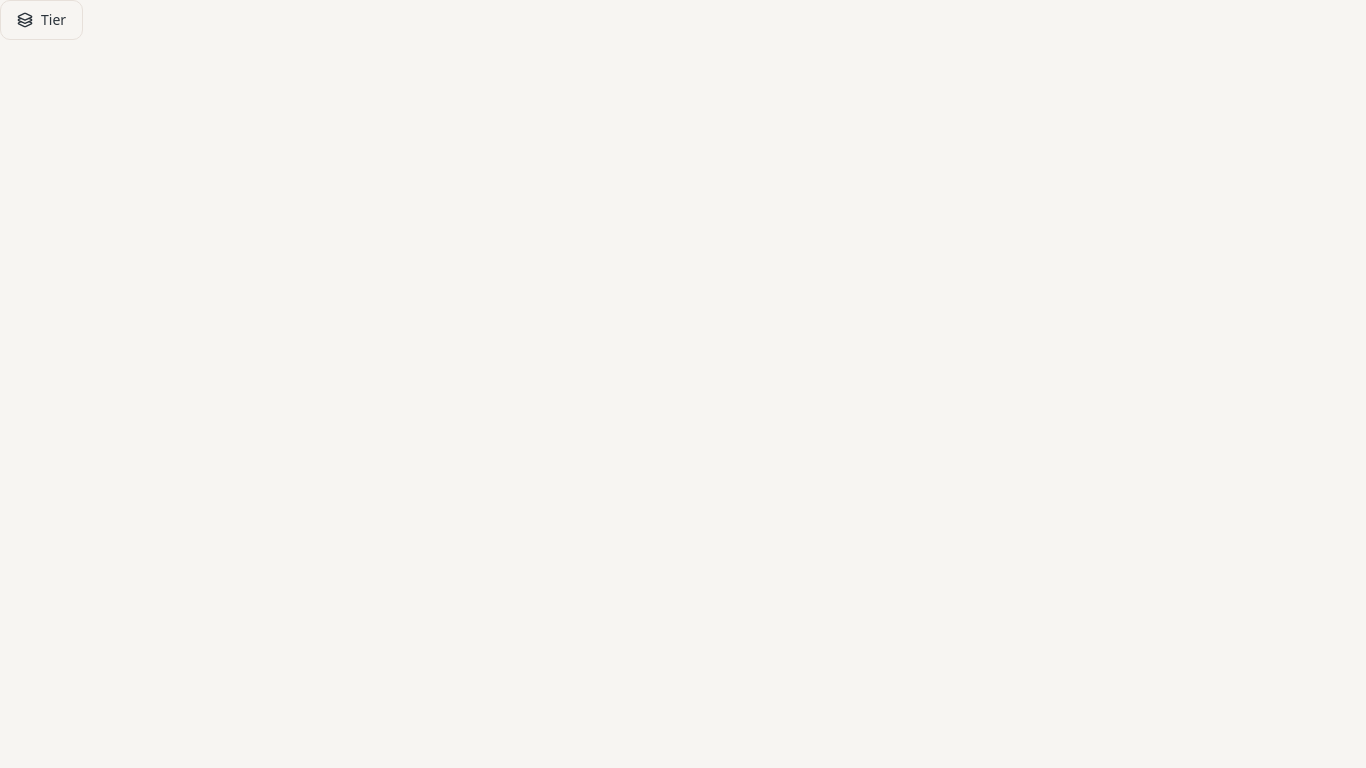
keeps the form open and reports duplicate names without opening another tier
Click the button "Tier" at {"x": 42, "y": 20}, box [0, 0, 83, 40]
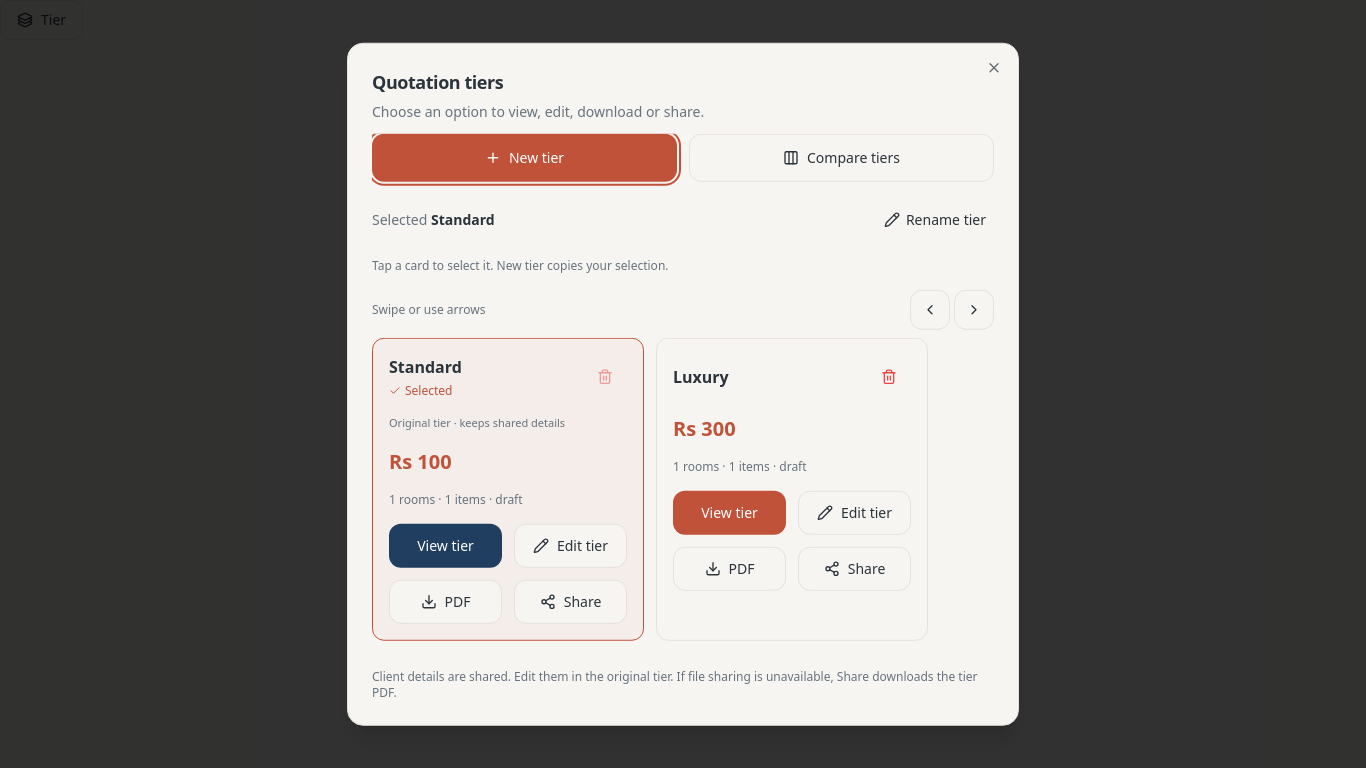
Click the button with aria-label "Create another tier" at {"x": 524, "y": 158}, box [372, 134, 677, 182]
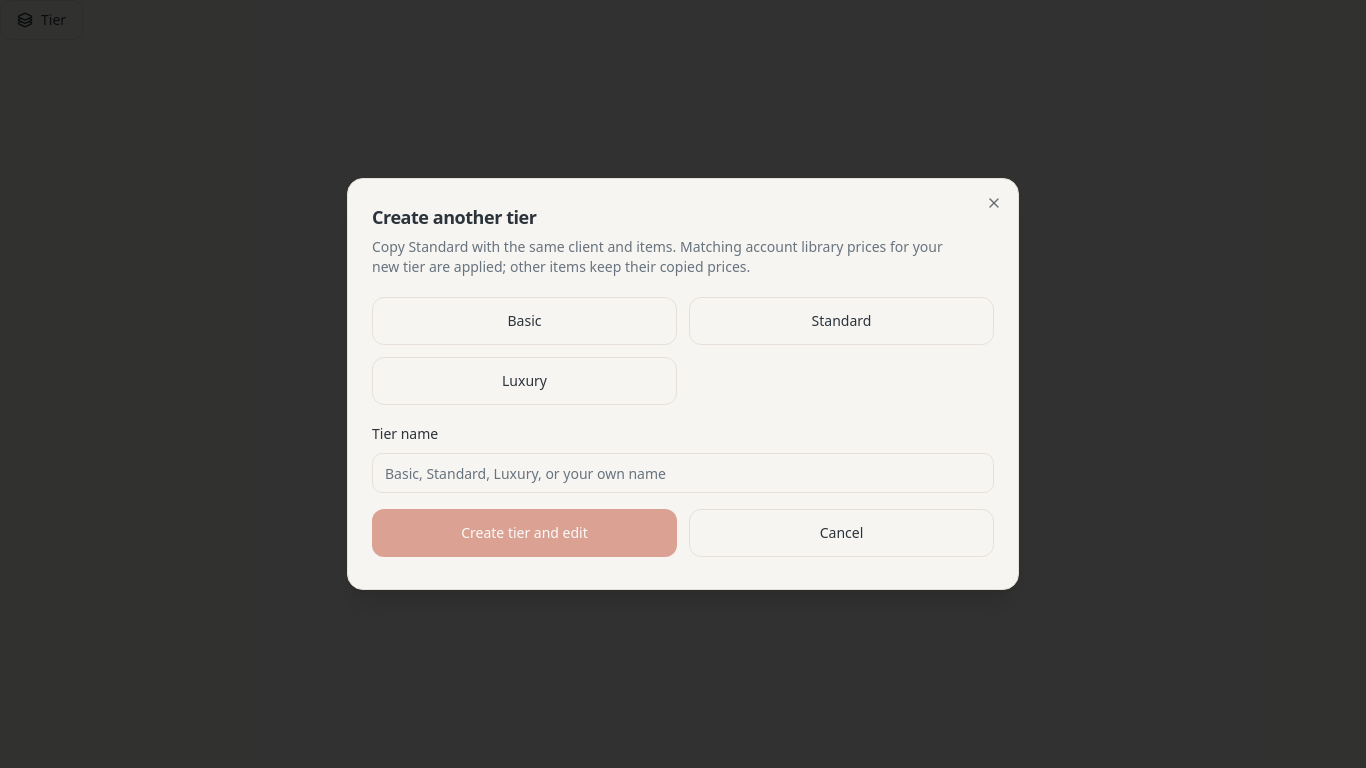
Type "Luxury" into the field labelled "Tier name" at {"x": 683, "y": 473}, box [372, 453, 994, 493]
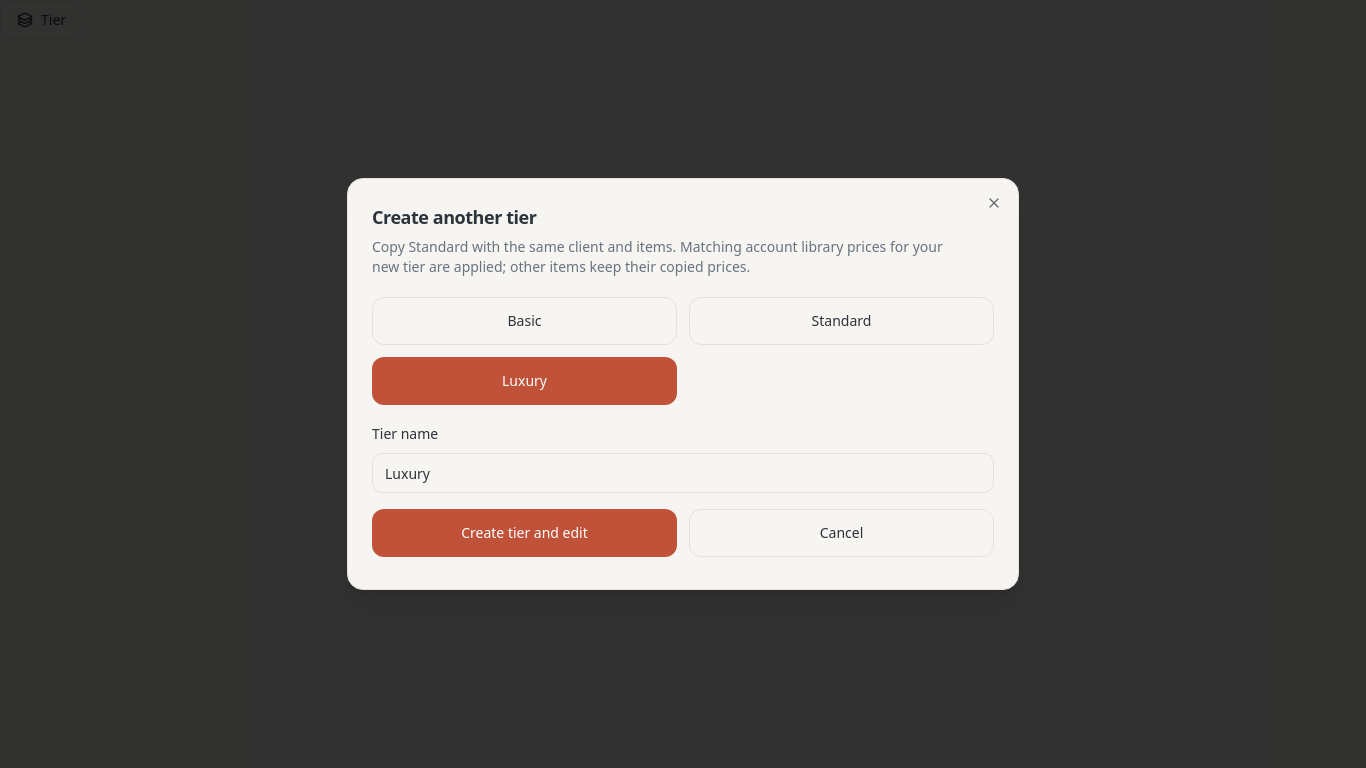
Click the button "Create tier and edit" at {"x": 524, "y": 533}, box [372, 509, 677, 557]
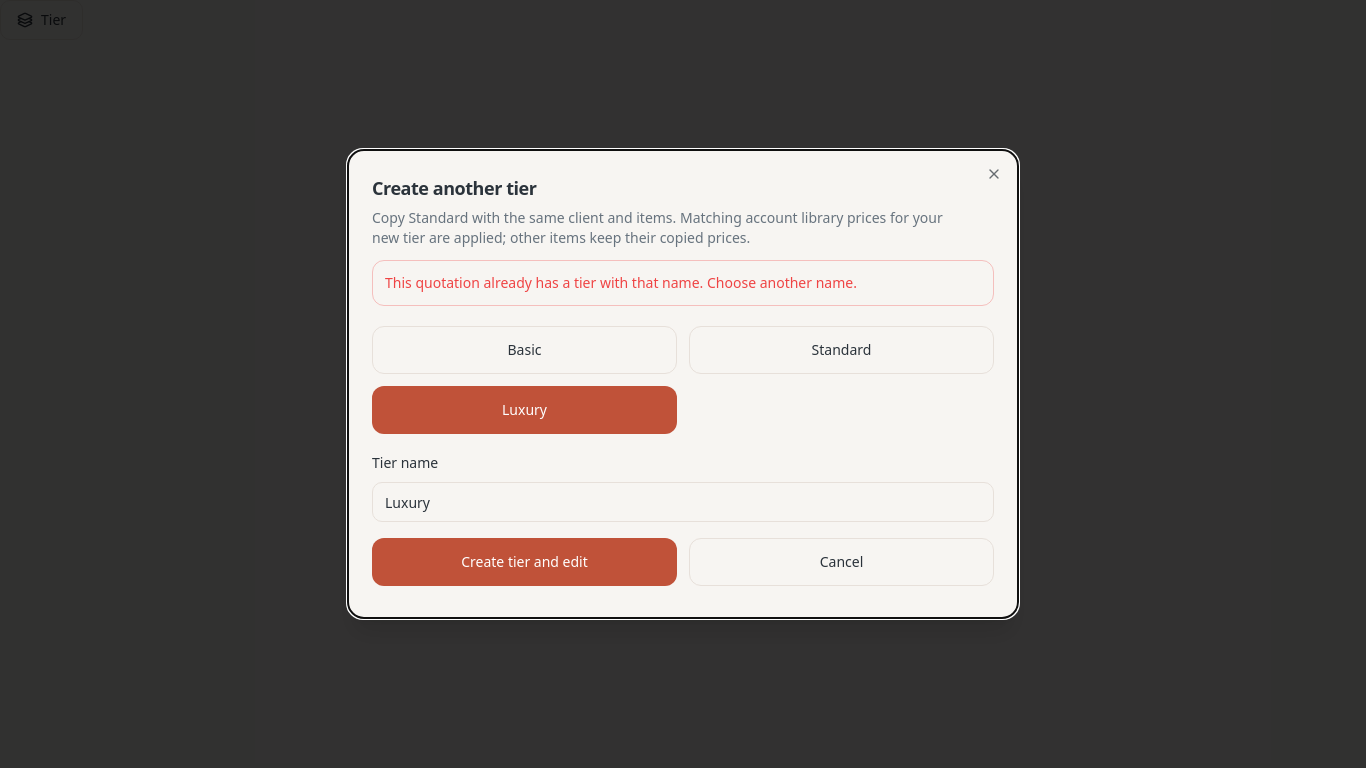
Check: the message shows "already has a tier with that name", box [385, 273, 857, 292]
